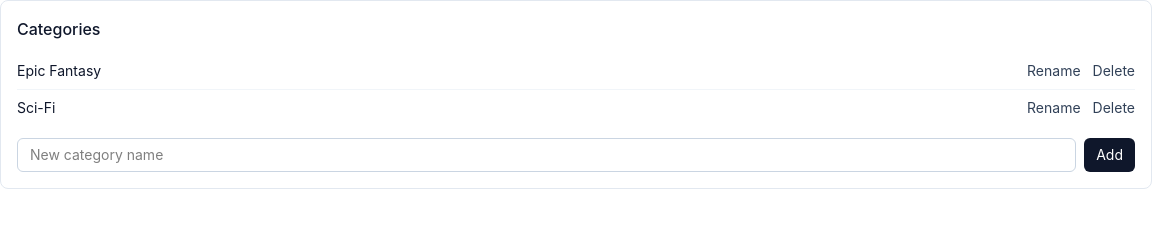
it: CategoryManager — deleting › shows the server error message when the category still has books assigned
This screenshot has width=1152, height=234.
Click the button "Delete" in the row of "Epic Fantasy" at {"x": 1114, "y": 71}, box [1093, 61, 1135, 81]
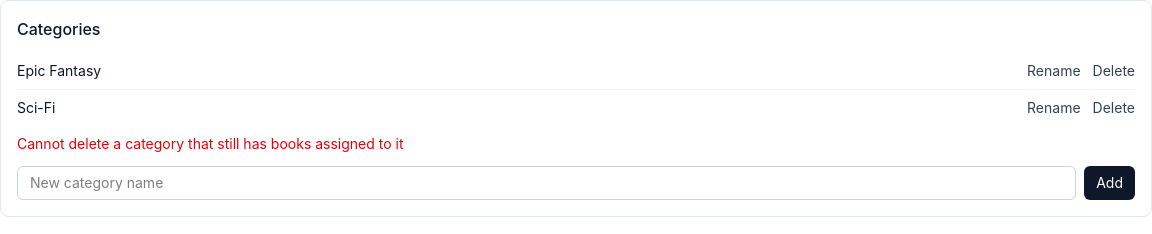
expect the text "Cannot delete a category that still has books assigned to it" is shown: met, box [17, 135, 404, 152]
